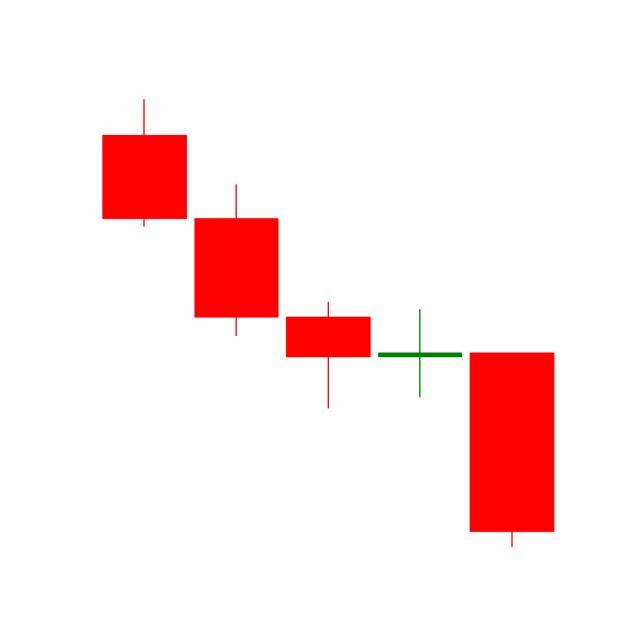Spinning Top: (374, 309, 468, 401)
